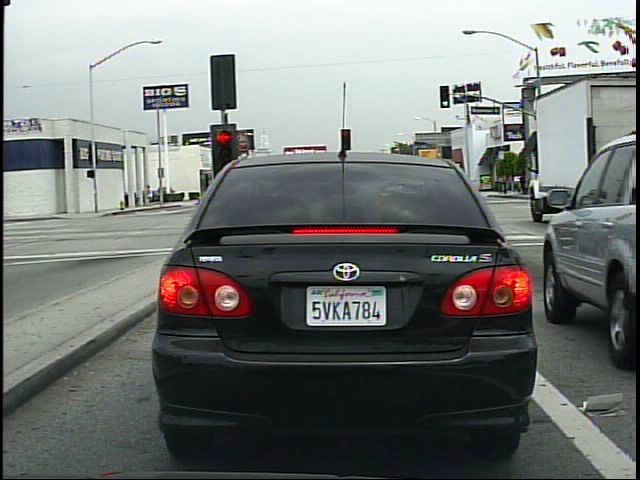person: (519, 169, 529, 199), (148, 181, 156, 208)
